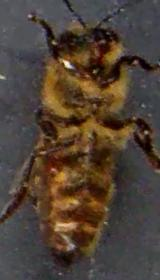varroa_mite: (31, 143, 70, 182)
